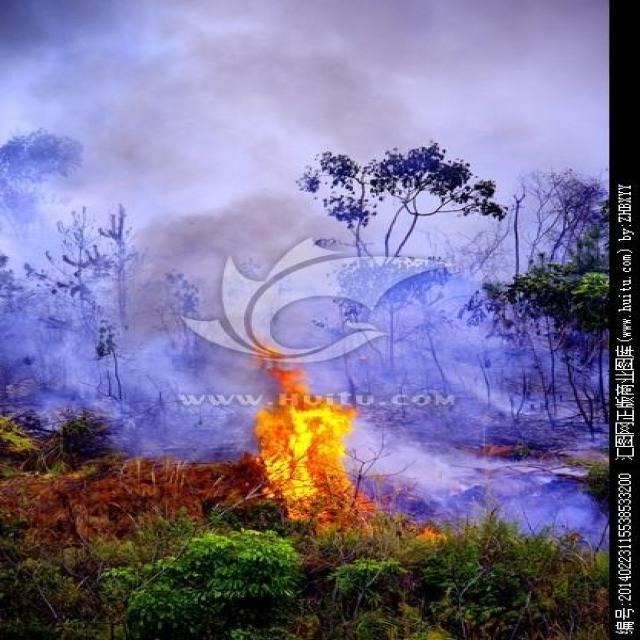Fire: (234, 339, 394, 522)
Smoke: (1, 1, 611, 545)
